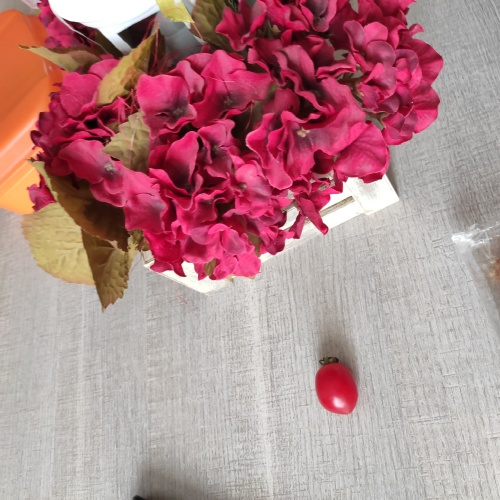pomodoro: (311, 353, 362, 417)
